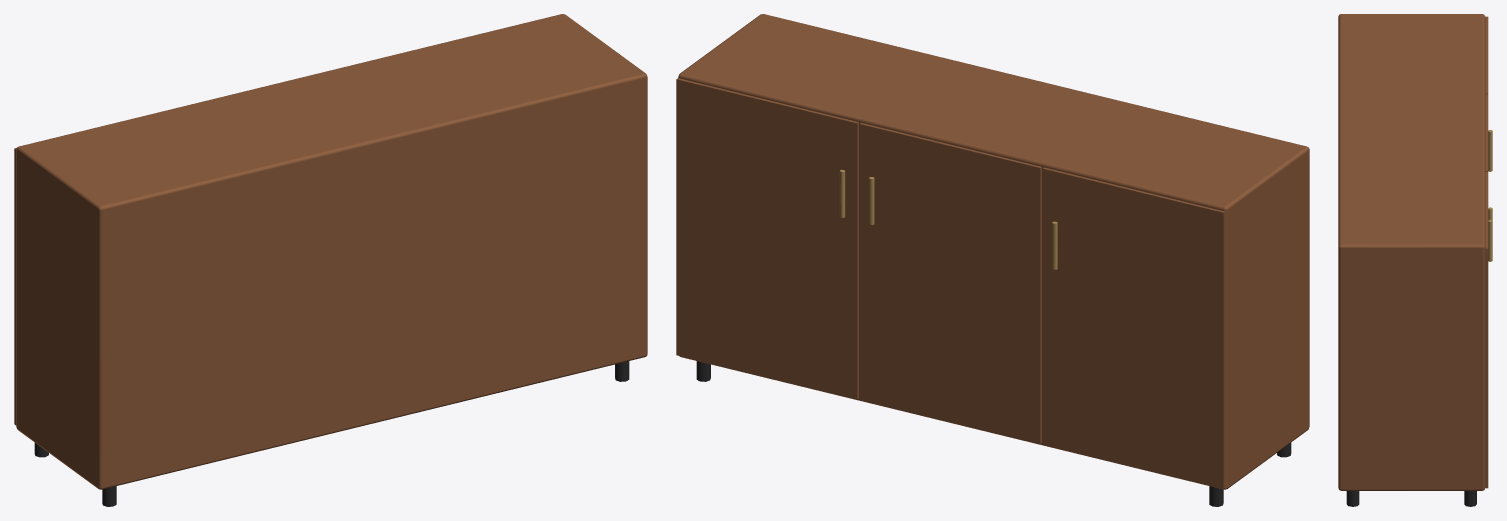
The picture shows the model from 3 angles, left to right: view 1: azimuth 30°, elevation 25°; view 2: azimuth 150°, elevation 25°; view 3: azimuth 270°, elevation 25°; orthographic projection. The views are drawn at different scales.
Visible parts, largest first — view 1: body, door-1; view 2: body, door-1, door-2, door-3; view 3: body, door-3, door-1, door-2, leg-4, handle-1, handle-3, leg-2.
Part boxes in pixels (x1,y1,x2,y2): body: (16, 14, 647, 489); door-1: (14, 148, 16, 425); body: (678, 14, 1309, 489); door-1: (1042, 167, 1225, 488); door-2: (859, 122, 1041, 443); door-3: (676, 78, 858, 399); body: (1338, 14, 1485, 490); door-3: (1485, 172, 1488, 488); door-1: (1485, 16, 1488, 94); door-2: (1485, 94, 1488, 171); leg-4: (1346, 491, 1359, 506); handle-1: (1488, 130, 1492, 171); handle-3: (1488, 220, 1492, 261); leg-2: (1464, 491, 1476, 506).
Size of the model in its own units: 1.5 by 0.8 by 0.42.
